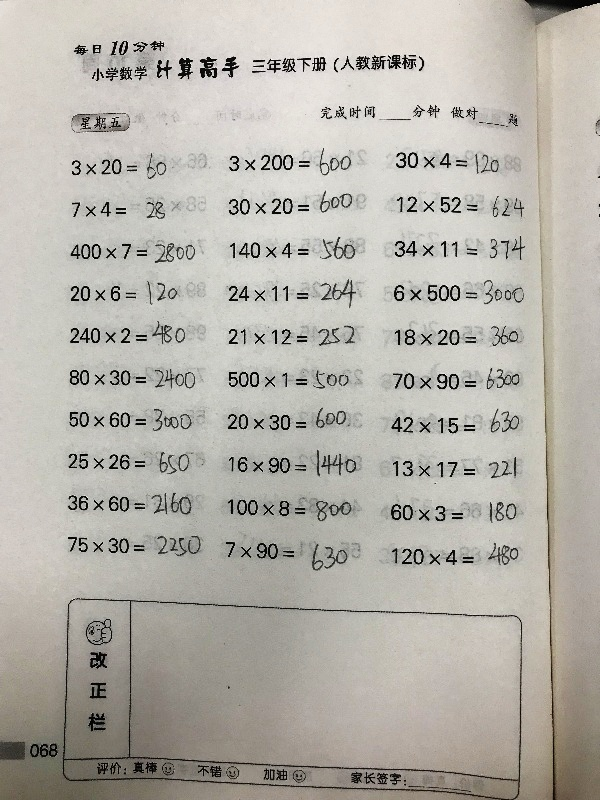equation: (223, 276, 360, 312), (226, 144, 356, 180), (390, 276, 529, 309), (225, 447, 361, 480), (391, 232, 529, 264), (387, 404, 520, 437), (388, 455, 519, 488), (65, 449, 208, 479), (222, 539, 350, 572), (65, 532, 206, 561), (66, 405, 196, 436), (227, 234, 360, 264), (223, 492, 355, 522), (64, 487, 195, 517), (389, 365, 524, 394), (389, 538, 519, 568), (391, 321, 523, 350), (224, 188, 356, 217), (67, 317, 190, 348), (65, 363, 199, 391), (224, 322, 358, 350), (67, 239, 200, 267), (67, 277, 182, 309), (394, 190, 529, 217), (223, 405, 353, 433), (386, 498, 517, 525), (68, 149, 171, 183), (67, 195, 170, 229), (225, 366, 353, 393), (391, 149, 502, 176)
